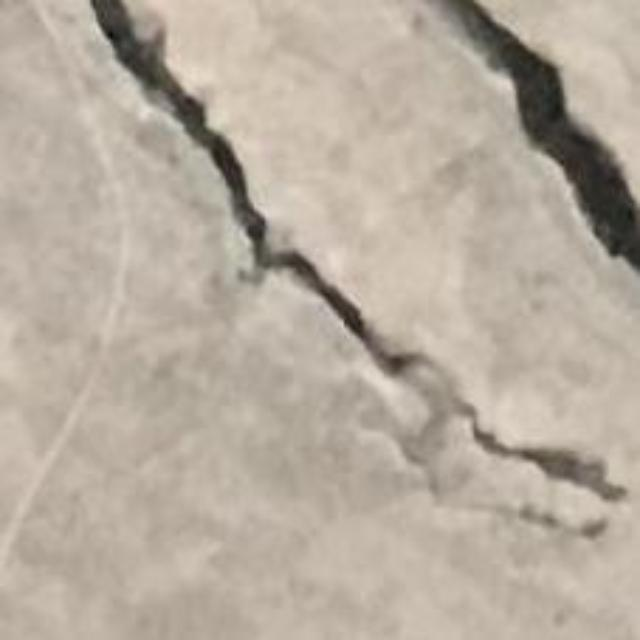crack: (91, 0, 625, 501)
